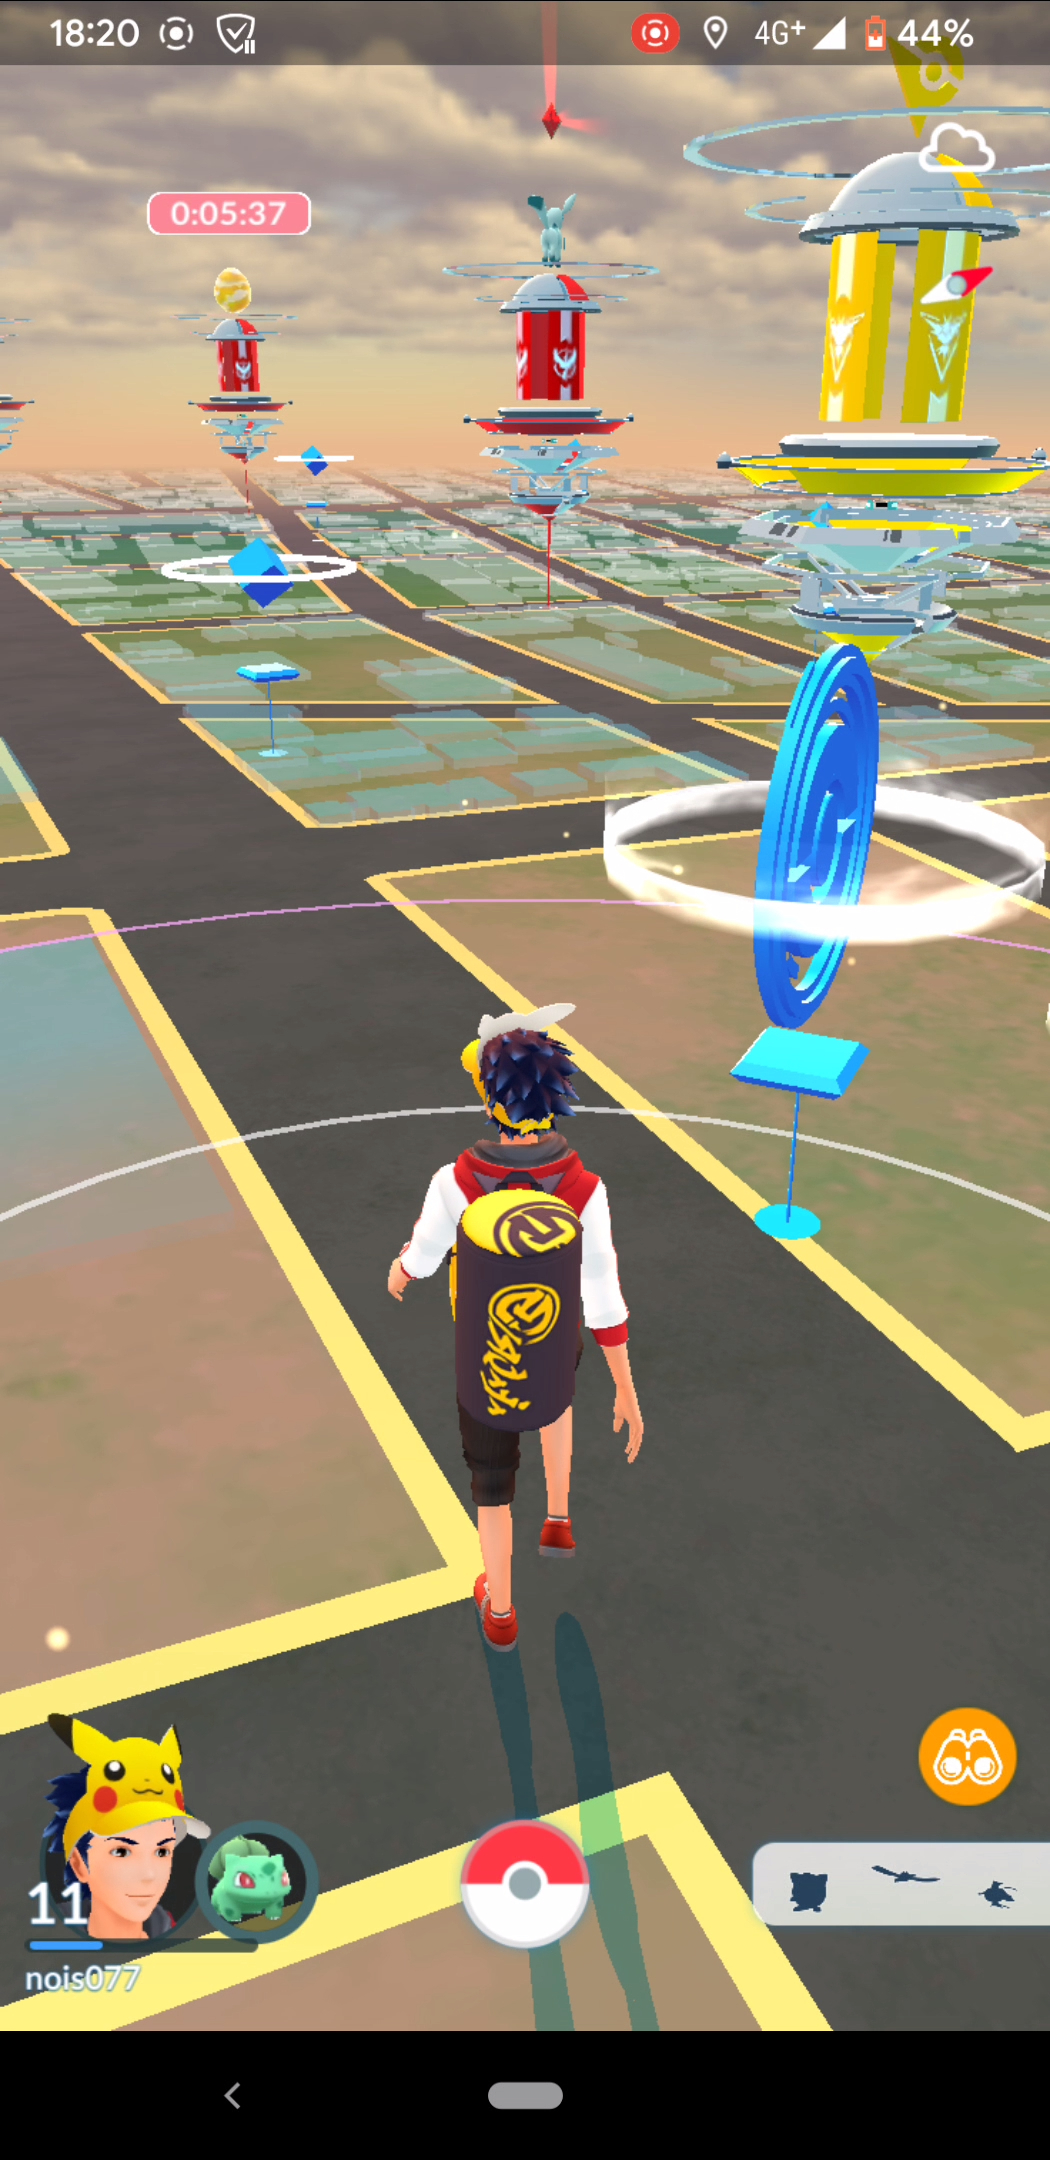pokestop: (743, 639, 893, 1032)
